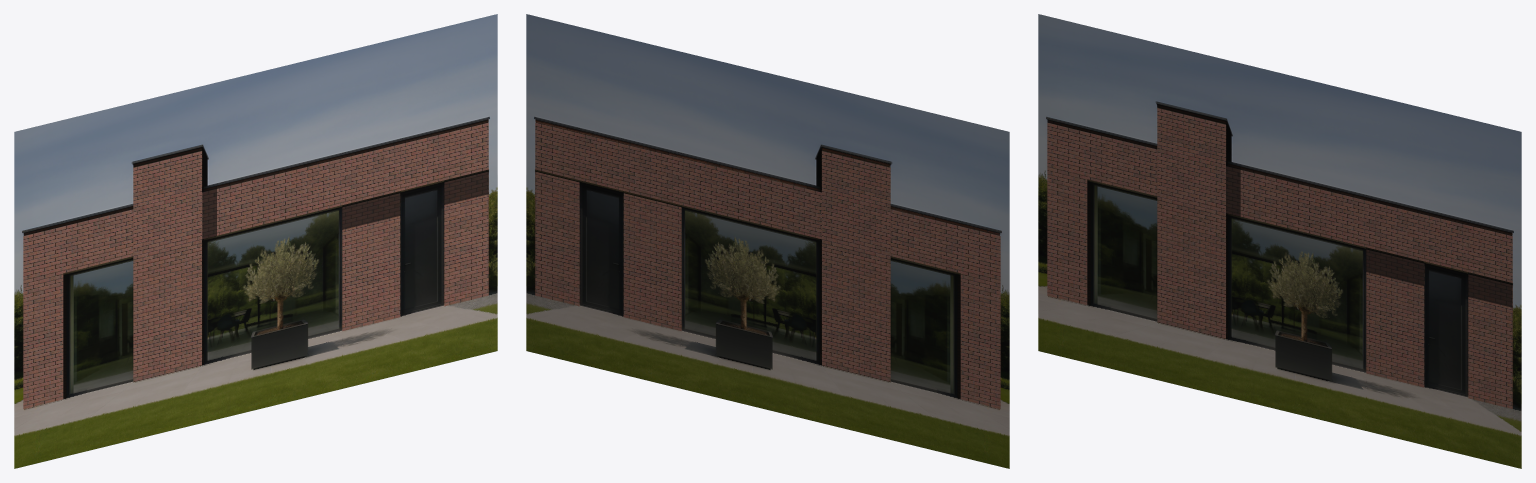
File: place-villa.glb
3 views of the same model, side by side, from view 1: azimuth 30°, elevation 25°; view 2: azimuth 150°, elevation 25°; view 3: azimuth 330°, elevation 25° (orthographic).
Parts seen in each view (by area): view 1: 2.001; view 2: 2.001; view 3: 2.001.
Part boxes in pixels (x1,y1,x2,y2): 2.001: (14,14,497,468); 2.001: (526,14,1009,468); 2.001: (1038,14,1521,468).
Bounding box in the file's own units: 1.5 × 1 × 0.00061.
Materials: 3 (2 with a texture image).
